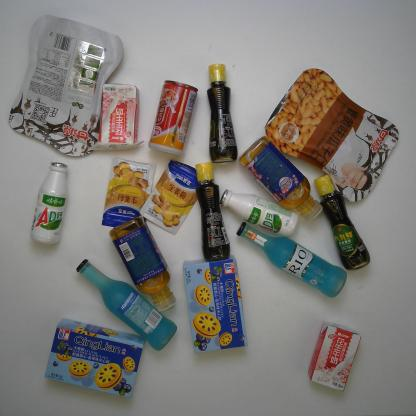Alcohol: (75, 256, 180, 354), (233, 218, 350, 301)
Canned Food: (145, 76, 201, 158)
Dessert: (40, 314, 148, 402), (180, 253, 251, 357)
Dried Fruit: (263, 65, 402, 204), (5, 12, 126, 158)
Drink: (235, 132, 326, 224), (105, 213, 179, 314)
Milk: (299, 317, 365, 395), (216, 184, 302, 240), (86, 80, 150, 153), (26, 159, 70, 248)
Seasoner: (312, 172, 374, 272), (137, 157, 200, 239), (98, 155, 158, 233), (191, 159, 235, 263), (200, 61, 242, 167)
